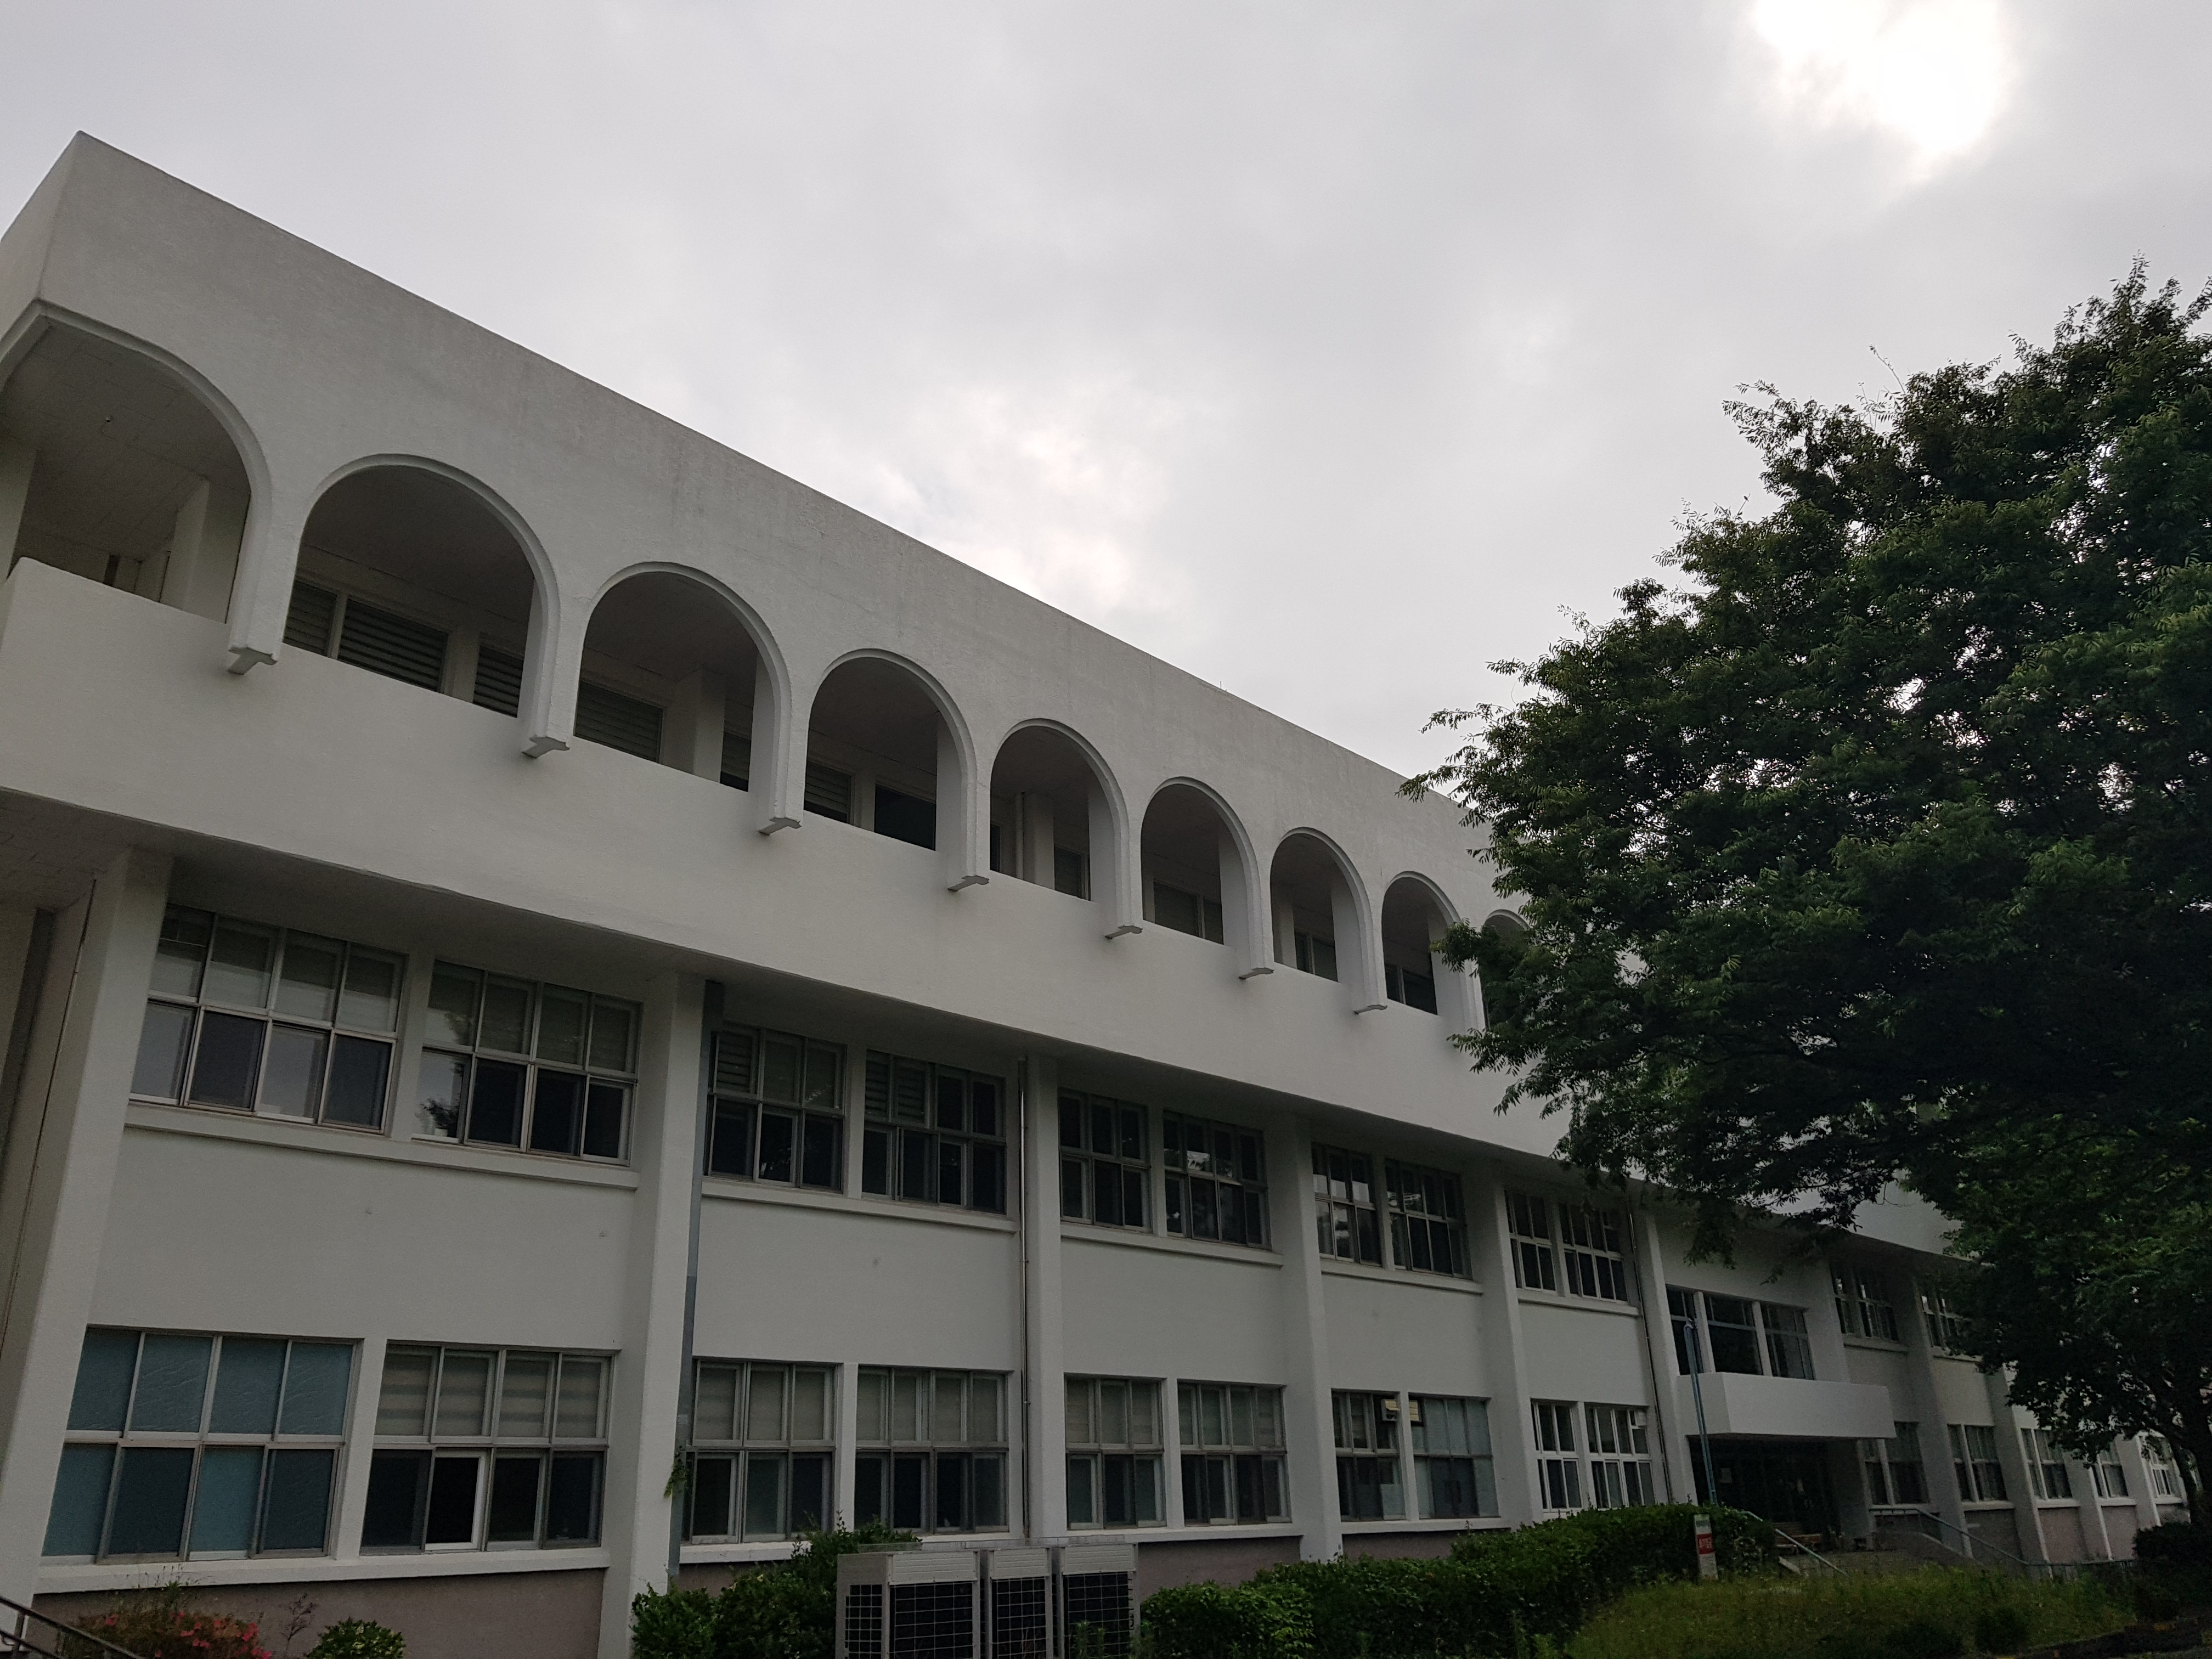Main Building of University: (28, 119, 2151, 1554), (296, 455, 1374, 1018), (1641, 1227, 1898, 1532)
